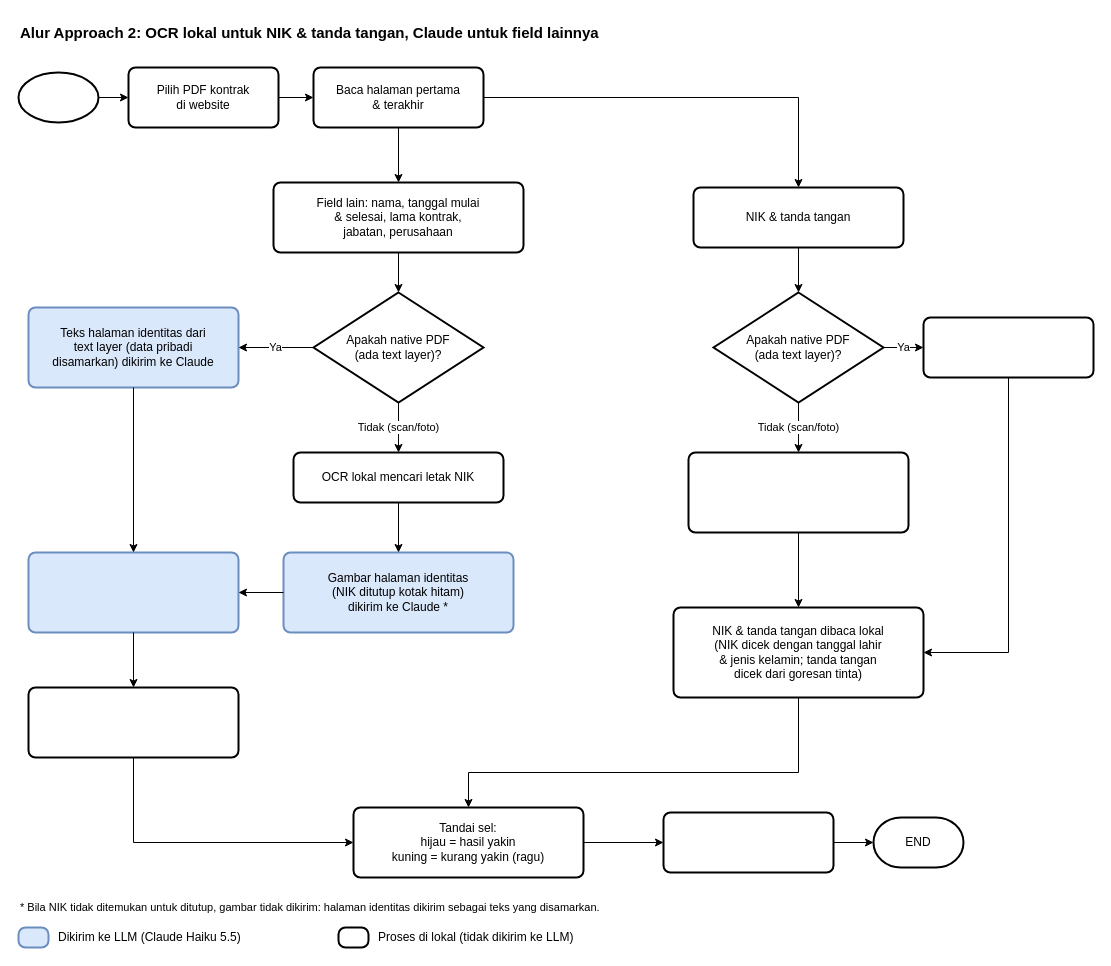
Some shapes in this 1111 by 966 pixel diagram are drawn without their labels. The box of each missing label's shape, as (x1, y1, x2, y2) in pixels:
Ambil teks dari text layer PDF: (922, 316, 1094, 378)
Cek silang lokal: nama & periode vs nama file, vendor vs folder: (27, 686, 239, 758)
Claude membaca nama, tanggal mulai & selesai, lama kontrak, jabatan, perusahaan: (27, 551, 239, 633)
Hasil tampil di website & bisa diunduh Excel: (662, 811, 834, 873)
OCR lokal: RapidOCR membaca, Tesseract membaca ulang bila hasilnya ragu: (687, 451, 909, 533)
START: (17, 71, 99, 123)
